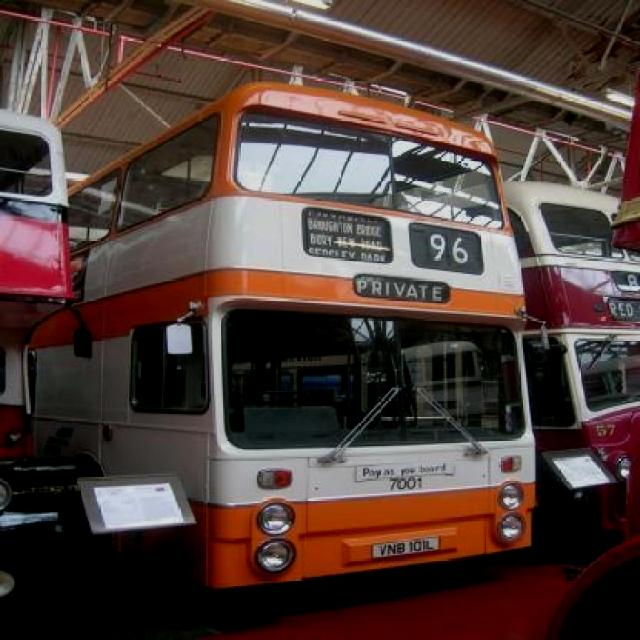Bus: (28, 80, 545, 603), (0, 109, 111, 606), (499, 161, 640, 544)
